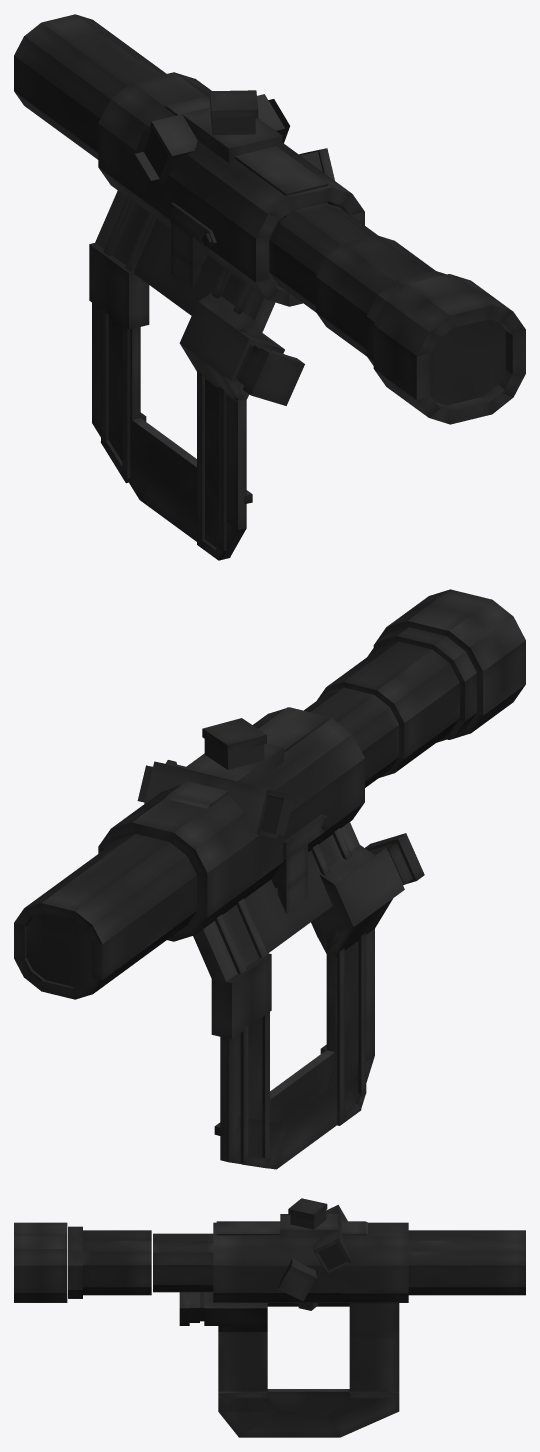
Rendered from j_psos.geo.fbx.
3 views of the same model, one above another, from view 1: azimuth 30°, elevation 25°; view 2: azimuth 150°, elevation 25°; view 3: azimuth 270°, elevation 25° (orthographic). The views are drawn at different scales.
Parts seen in each view (by area): view 1: pso7, specter5, specter2, specter7, bone, specter3, pso4, specter4, scopepip, pso5, specter6; view 2: pso7, specter5, specter7, bone, specter2, specter3, pso4, specter4, specter6, pso5; view 3: pso7, specter5, specter7, specter3, specter2, specter4, bone, pso4, specter6, pso5, pso6.
Part boxes in pixels (left/top/right/bottom): pso7: left=89, top=190, right=281, bottom=560; specter5: left=98, top=72, right=364, bottom=306; specter2: left=373, top=274, right=525, bottom=424; specter7: left=14, top=14, right=166, bottom=159; bone: left=135, top=94, right=327, bottom=289; specter3: left=316, top=235, right=435, bottom=356; pso4: left=179, top=301, right=304, bottom=405; specter4: left=269, top=202, right=377, bottom=312; scopepip: left=430, top=319, right=505, bottom=405; pso5: left=209, top=90, right=258, bottom=134; specter6: left=366, top=270, right=446, bottom=365; pso7: left=193, top=822, right=392, bottom=1169; specter5: left=98, top=707, right=364, bottom=941; specter7: left=14, top=834, right=196, bottom=999; bone: left=26, top=707, right=330, bottom=986; specter2: left=373, top=589, right=525, bottom=739; specter3: left=317, top=641, right=459, bottom=777; pso4: left=311, top=833, right=424, bottom=937; specter4: left=304, top=687, right=398, bottom=787; specter6: left=367, top=627, right=476, bottom=742; pso5: left=202, top=718, right=266, bottom=769; pso7: left=218, top=1303, right=399, bottom=1437; specter5: left=213, top=1222, right=408, bottom=1302; specter7: left=408, top=1230, right=525, bottom=1295; specter3: left=83, top=1230, right=151, bottom=1295; specter2: left=14, top=1222, right=67, bottom=1302; specter4: left=153, top=1233, right=213, bottom=1292; bone: left=216, top=1204, right=367, bottom=1273; pso4: left=179, top=1292, right=267, bottom=1325; specter6: left=68, top=1226, right=82, bottom=1298; pso5: left=288, top=1198, right=327, bottom=1310; pso6: left=278, top=1258, right=316, bottom=1301.
Bounding box in the file's own units: 36.27 × 83.59 × 156.
Materials: 1 (1 with a texture image).
